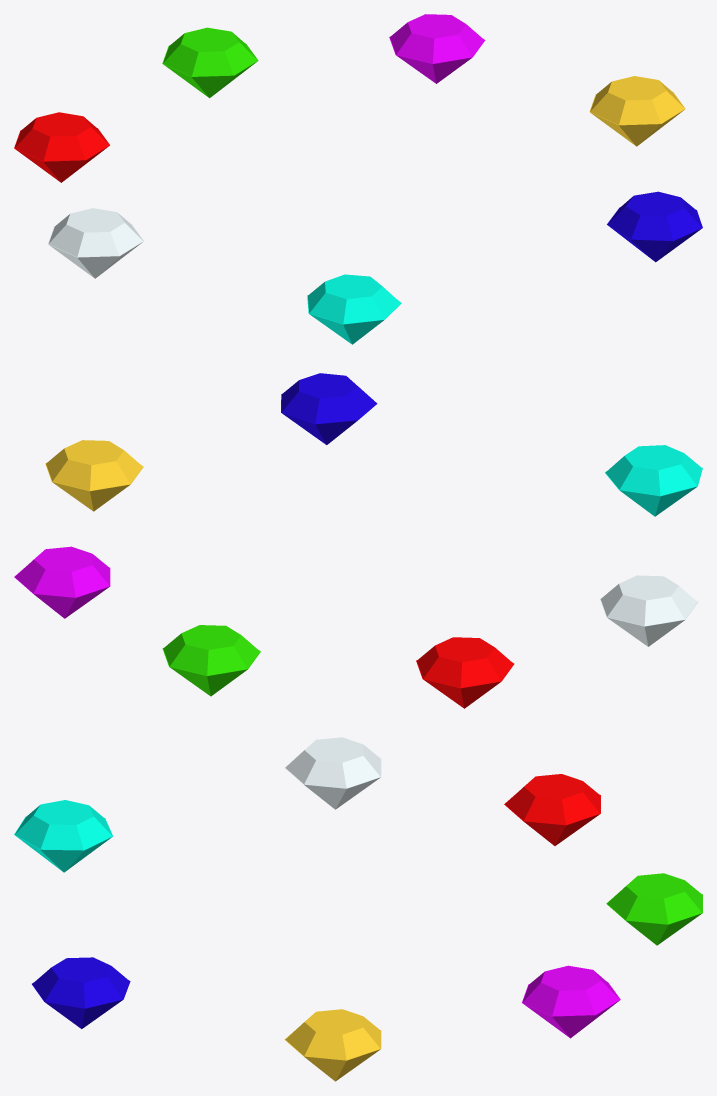
The model's file is chaosemeralds.fbx.
The picture shows the model from 3 angles, top to bottom: view 1: azimuth 30°, elevation 25°; view 2: azimuth 150°, elevation 25°; view 3: azimuth 270°, elevation 25°; orthographic projection. The views are drawn at different scales.
Parts seen in each view (by area): view 1: Cone.006, Cone.002, Cone.004, Cone, Cone.001, Cone.003, Cone.005; view 2: Cone.004, Cone.001, Cone.002, Cone, Cone.005, Cone.006, Cone.003; view 3: Cone.003, Cone.005, Cone.006, Cone.001, Cone.002, Cone.004, Cone.
Part boxes in pixels (x1=…): Cone.006: x1=389, y1=14, x2=485, y2=83; Cone.002: x1=589, y1=76, x2=685, y2=146; Cone.004: x1=162, y1=27, x2=258, y2=98; Cone: x1=14, y1=112, x2=109, y2=182; Cone.001: x1=48, y1=208, x2=143, y2=278; Cone.003: x1=607, y1=191, x2=702, y2=262; Cone.005: x1=307, y1=274, x2=401, y2=344; Cone.004: x1=162, y1=625, x2=260, y2=696; Cone.001: x1=600, y1=575, x2=698, y2=646; Cone.002: x1=45, y1=440, x2=143, y2=511; Cone: x1=416, y1=637, x2=514, y2=708; Cone.005: x1=605, y1=445, x2=702, y2=516; Cone.006: x1=14, y1=546, x2=110, y2=618; Cone.003: x1=281, y1=373, x2=377, y2=444; Cone.003: x1=32, y1=957, x2=130, y2=1028; Cone.005: x1=14, y1=800, x2=113, y2=872; Cone.006: x1=522, y1=965, x2=620, y2=1038; Cone.001: x1=284, y1=737, x2=381, y2=809; Cone.002: x1=284, y1=1009, x2=381, y2=1081; Cone.004: x1=606, y1=873, x2=702, y2=945; Cone: x1=504, y1=774, x2=600, y2=845.
Bounding box in the file's own units: 1457 × 129 × 1352.
